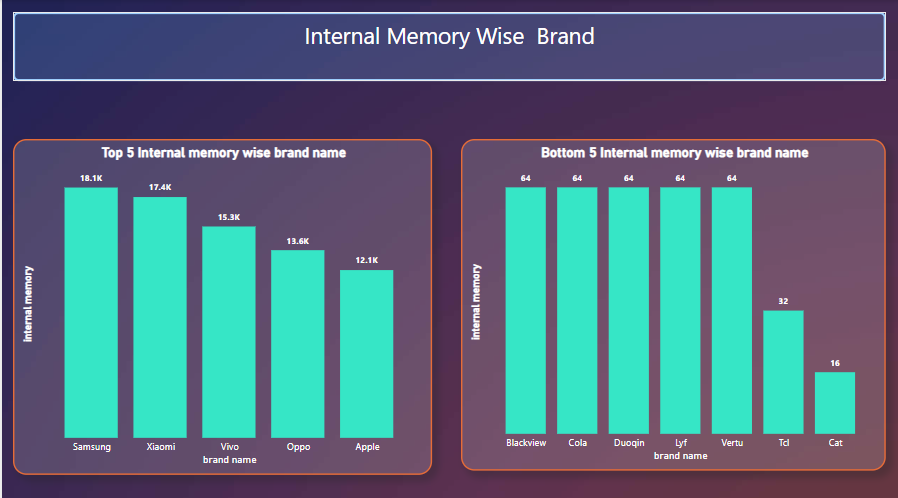

The dashboard page shown, as its layout file describes it:
{"tool":"powerbi","page":{"name":"Internal Memory Wise Brand","canvas":[1280,720],"ordinal":2},"visuals":[{"type":"clusteredColumnChart","title":" Top 5 Internal memory wise brand name","fields":{"Y":["Sum(smartphones_cleaned_v6.internal_memory)"],"Category":["smartphones_cleaned_v6.brand_name"]},"box":[15.7,196.5,593.7,475.6],"z":0},{"type":"clusteredColumnChart","title":"Bottom 5 Internal memory wise brand name","fields":{"Y":["Sum(smartphones_cleaned_v6.internal_memory)"],"Category":["smartphones_cleaned_v6.brand_name"]},"box":[650.7,196.5,602.3,469.9],"z":1000},{"type":"textbox","box":[15.6,17,1237.3,97.8],"z":2000}]}

Visuals, with their boxes in screenshot pixels (x1, y1, x2, y2), scaled from the page's 1280x720 canvas onto the 898x498 screenshot:
" Top 5 Internal memory wise brand name" clusteredColumnChart: [x1=11, y1=136, x2=428, y2=465]
"Bottom 5 Internal memory wise brand name" clusteredColumnChart: [x1=457, y1=136, x2=879, y2=461]
textbox: [x1=11, y1=12, x2=879, y2=79]
